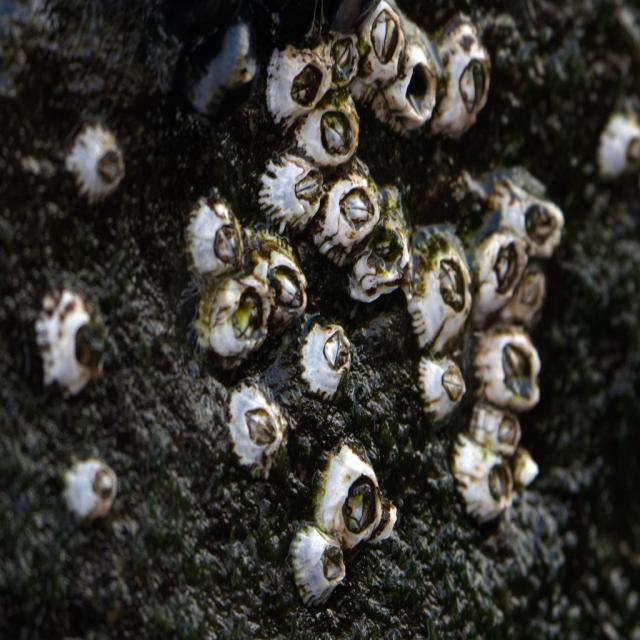barnacles: (30, 287, 113, 398), (479, 162, 563, 250), (410, 242, 470, 348), (318, 445, 382, 543), (480, 332, 558, 412), (187, 282, 266, 360), (66, 117, 136, 204), (217, 384, 282, 471), (285, 532, 362, 604), (351, 203, 412, 293), (262, 144, 323, 228), (61, 455, 125, 534), (324, 176, 384, 260), (250, 235, 307, 323), (296, 325, 361, 401), (448, 456, 518, 526), (265, 40, 325, 120), (183, 191, 242, 271), (594, 101, 640, 197), (445, 38, 489, 135), (295, 104, 363, 165), (399, 36, 440, 127), (473, 238, 524, 306), (416, 356, 464, 424), (319, 31, 368, 93), (364, 4, 408, 66), (475, 408, 526, 454)
